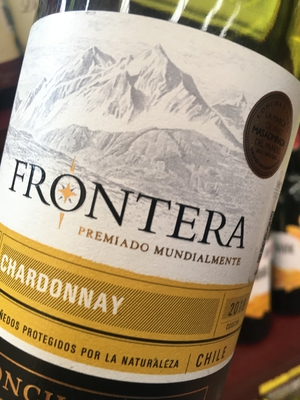frontera chardonnay: (1, 4, 300, 393)
